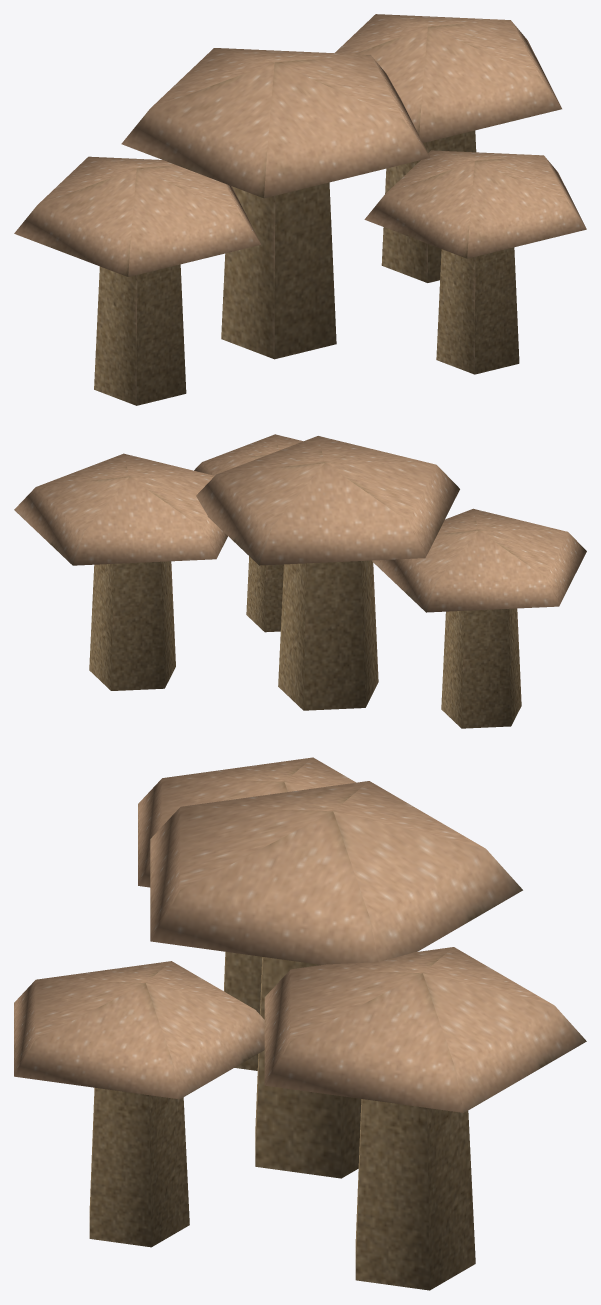
The model's file is Mushrooms.fbx.
3 renders of one model, top to bottom at view 1: azimuth 30°, elevation 25°; view 2: azimuth 150°, elevation 25°; view 3: azimuth 270°, elevation 25°, orthographic. The views are drawn at different scales.
Visible parts, largest first — view 1: Mushroom.002, Mushroom.001, Mushroom, Mushroom.003; view 2: Mushroom.002, Mushroom.003, Mushroom.001, Mushroom; view 3: Mushroom.002, Mushroom.003, Mushroom, Mushroom.001.
Part boxes in pixels (x1,y1,x2,y2): Mushroom.002: (121,48,430,359); Mushroom.001: (14,156,260,405); Mushroom: (364,150,586,374); Mushroom.003: (334,14,561,282); Mushroom.002: (196,436,459,710); Mushroom.003: (14,453,227,690); Mushroom.001: (372,508,586,728); Mushroom: (194,434,302,632); Mushroom.002: (150,781,522,1178); Mushroom.003: (264,947,586,1290); Mushroom: (14,961,264,1247); Mushroom.001: (138,757,355,1070).
Bounding box in the file's own units: 18.12 × 8.1 × 12.51.
